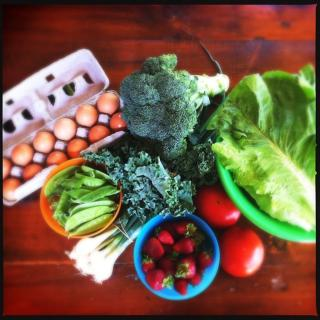tomato: (224, 232, 271, 280), (193, 184, 240, 226)
